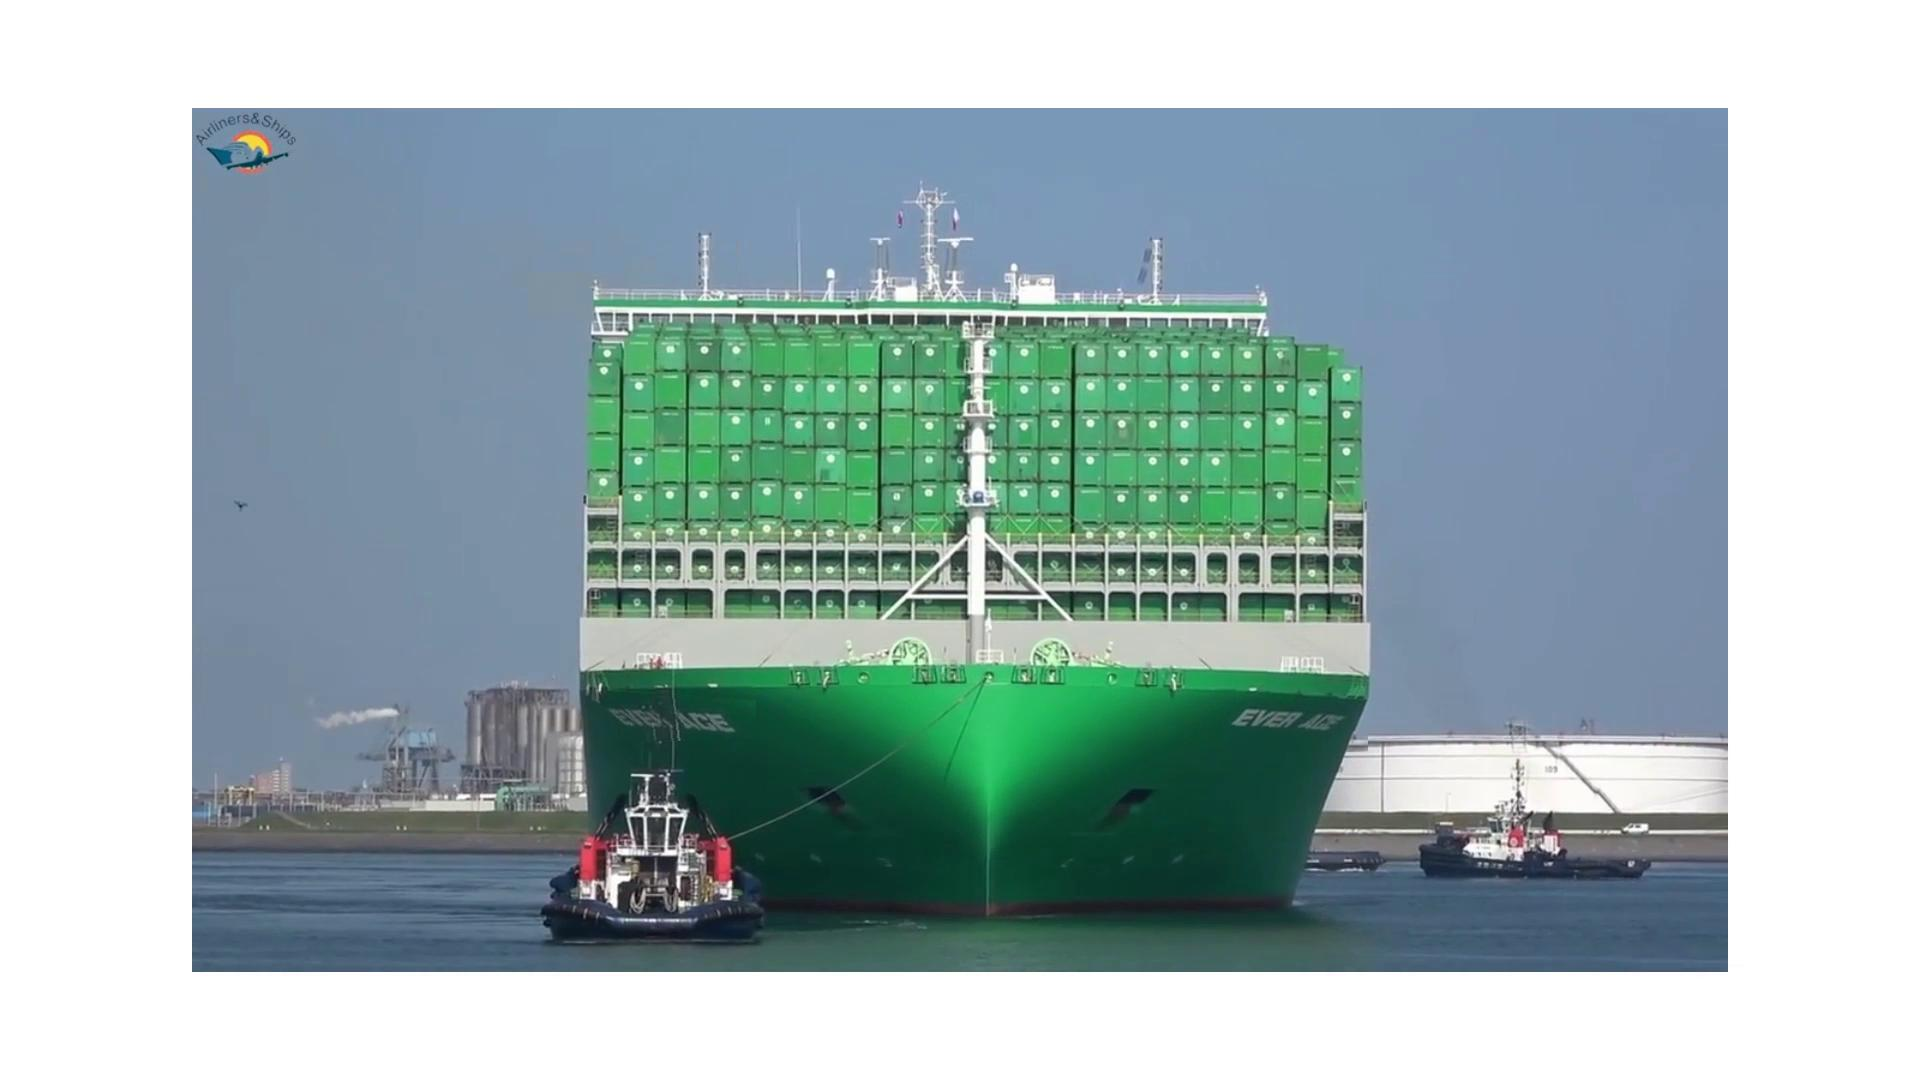OCR: (1218, 676, 1370, 753), (592, 688, 756, 741)
